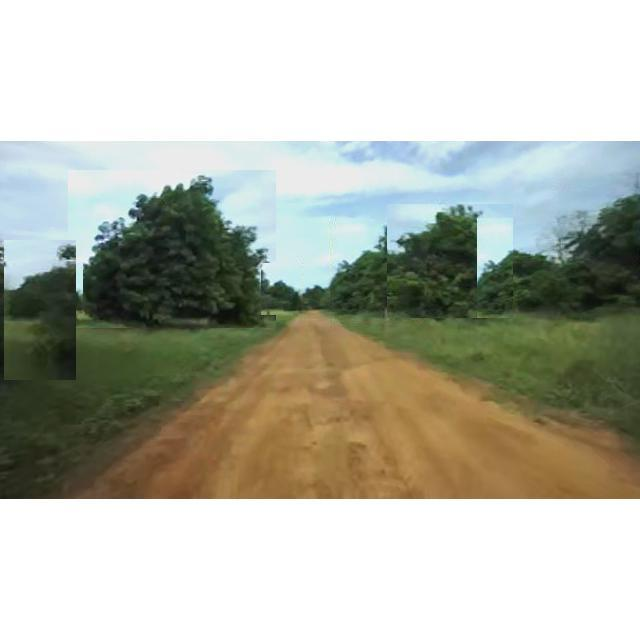direk: (68, 170, 276, 328), (387, 204, 513, 318), (4, 240, 76, 380), (556, 188, 640, 304), (331, 218, 423, 322), (261, 263, 303, 315)
